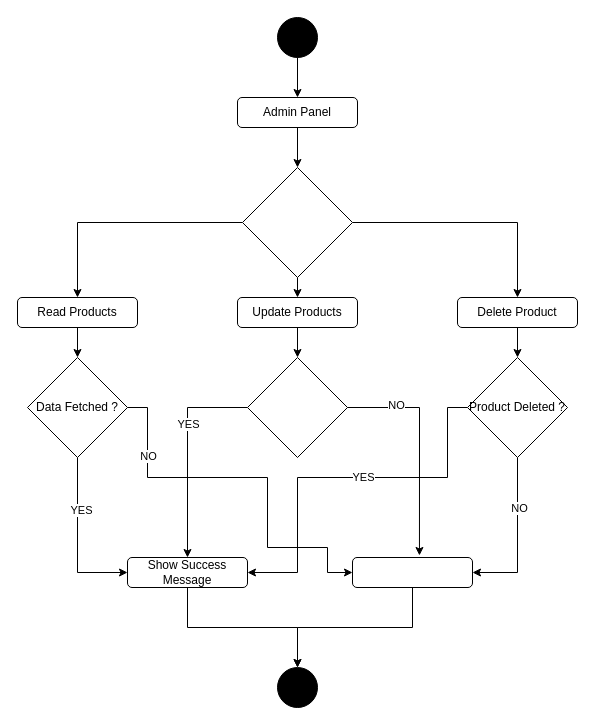
The diagram is 595 pixels wide and 725 high, and some of its shapes have lost their labels. Each missing label, with the centre of its shape:
"Admin Navigation" goes at [297,222].
"Product Updated ?" goes at [297,407].
"Show Error Message" goes at [412,572].
